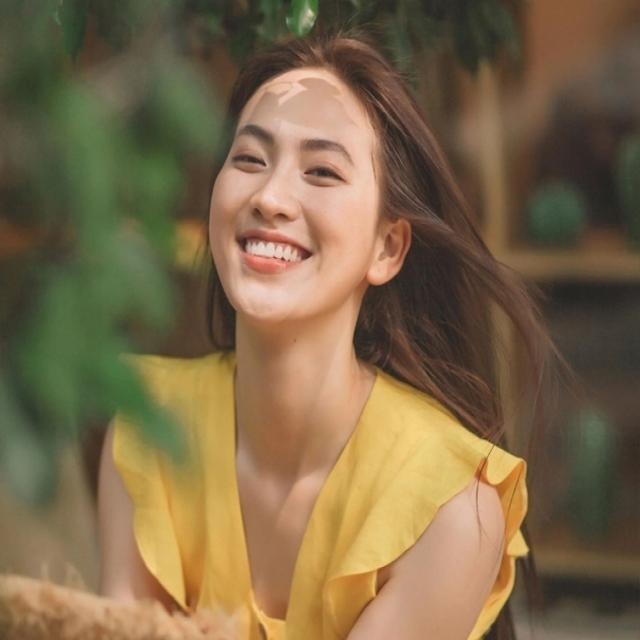Nonhelmet: (192, 26, 414, 334)
